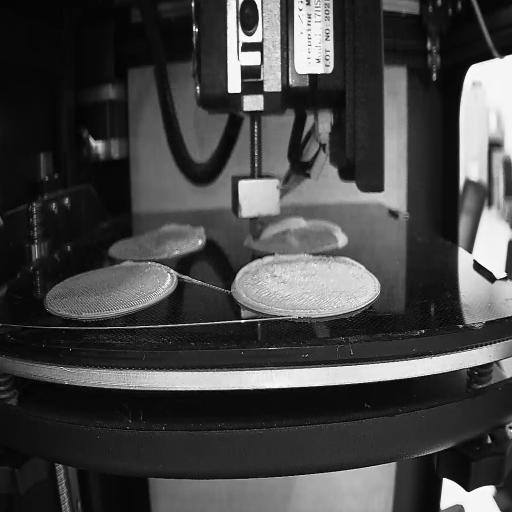over_extrusion: (234, 255, 312, 316), (316, 214, 350, 248), (262, 214, 308, 238), (157, 221, 209, 235), (332, 254, 366, 270), (116, 256, 140, 269)
